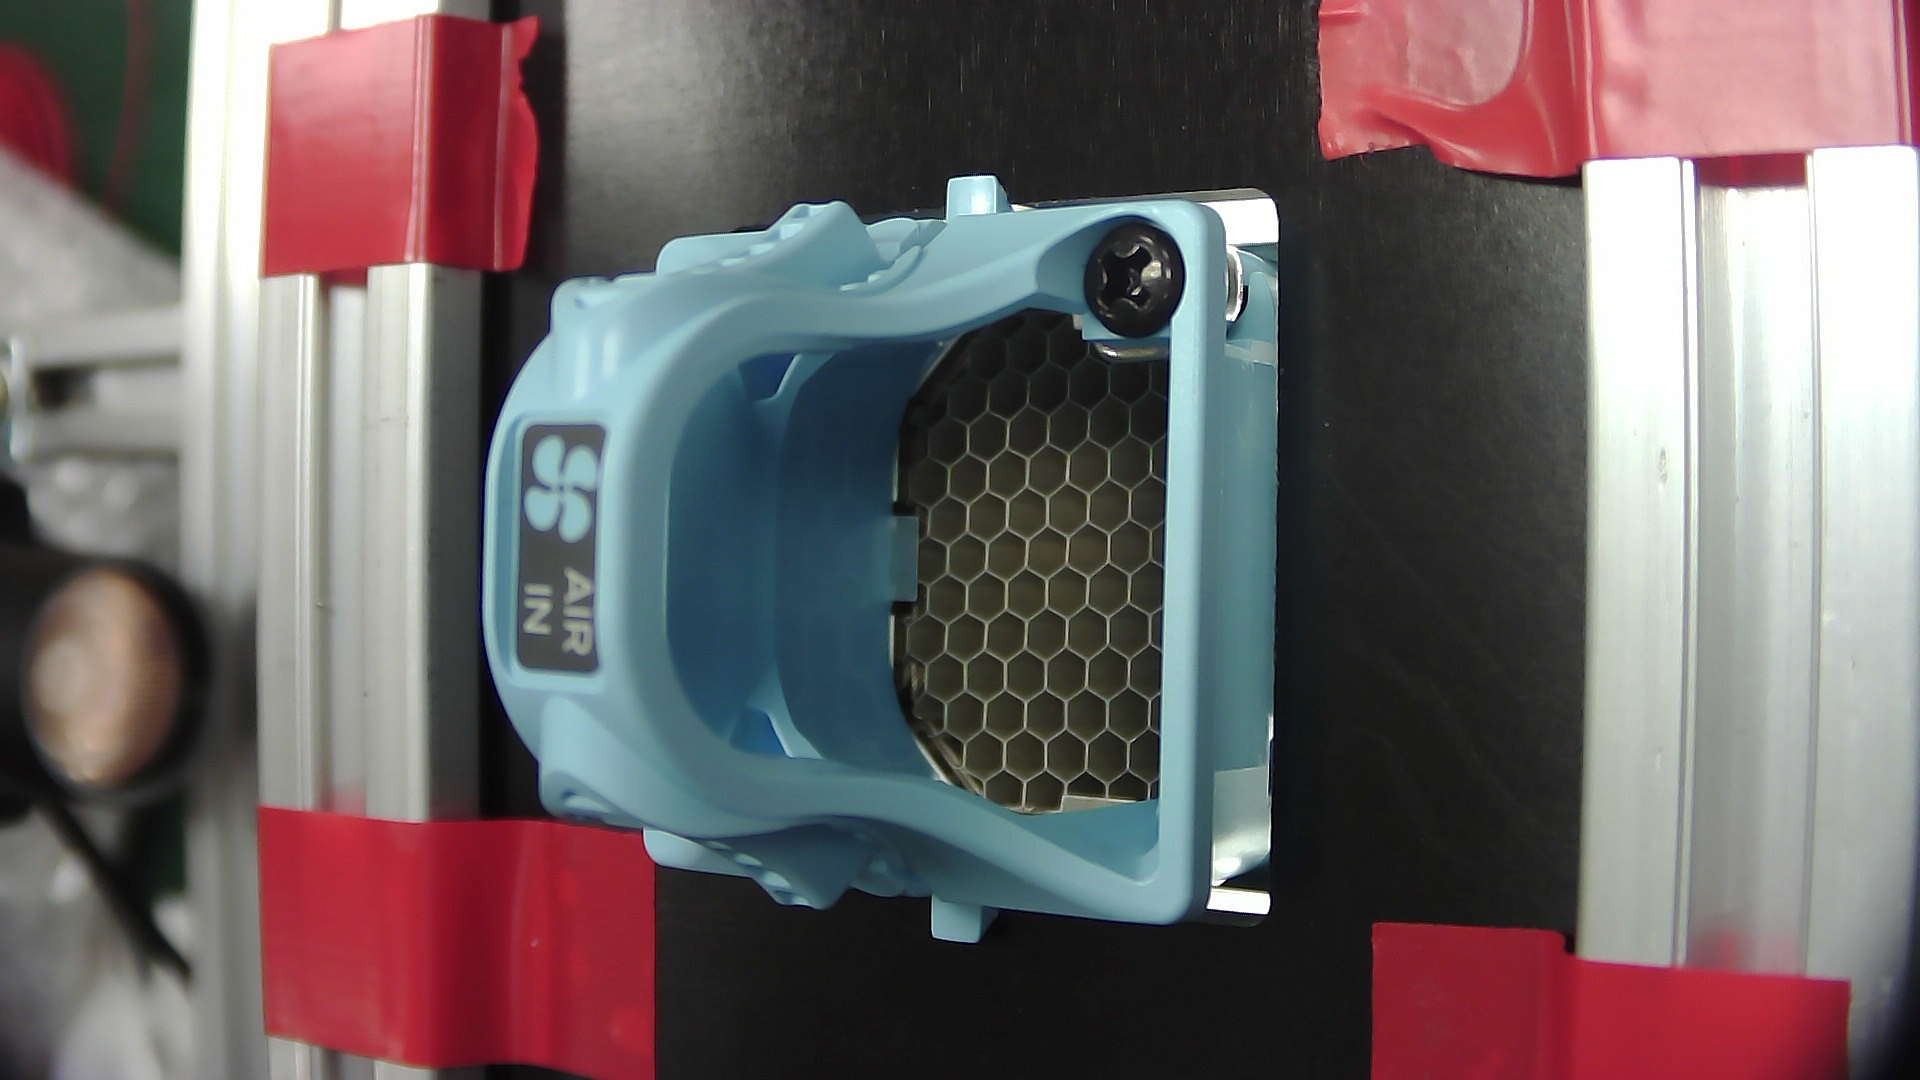7_0: (444, 154, 1311, 969)
